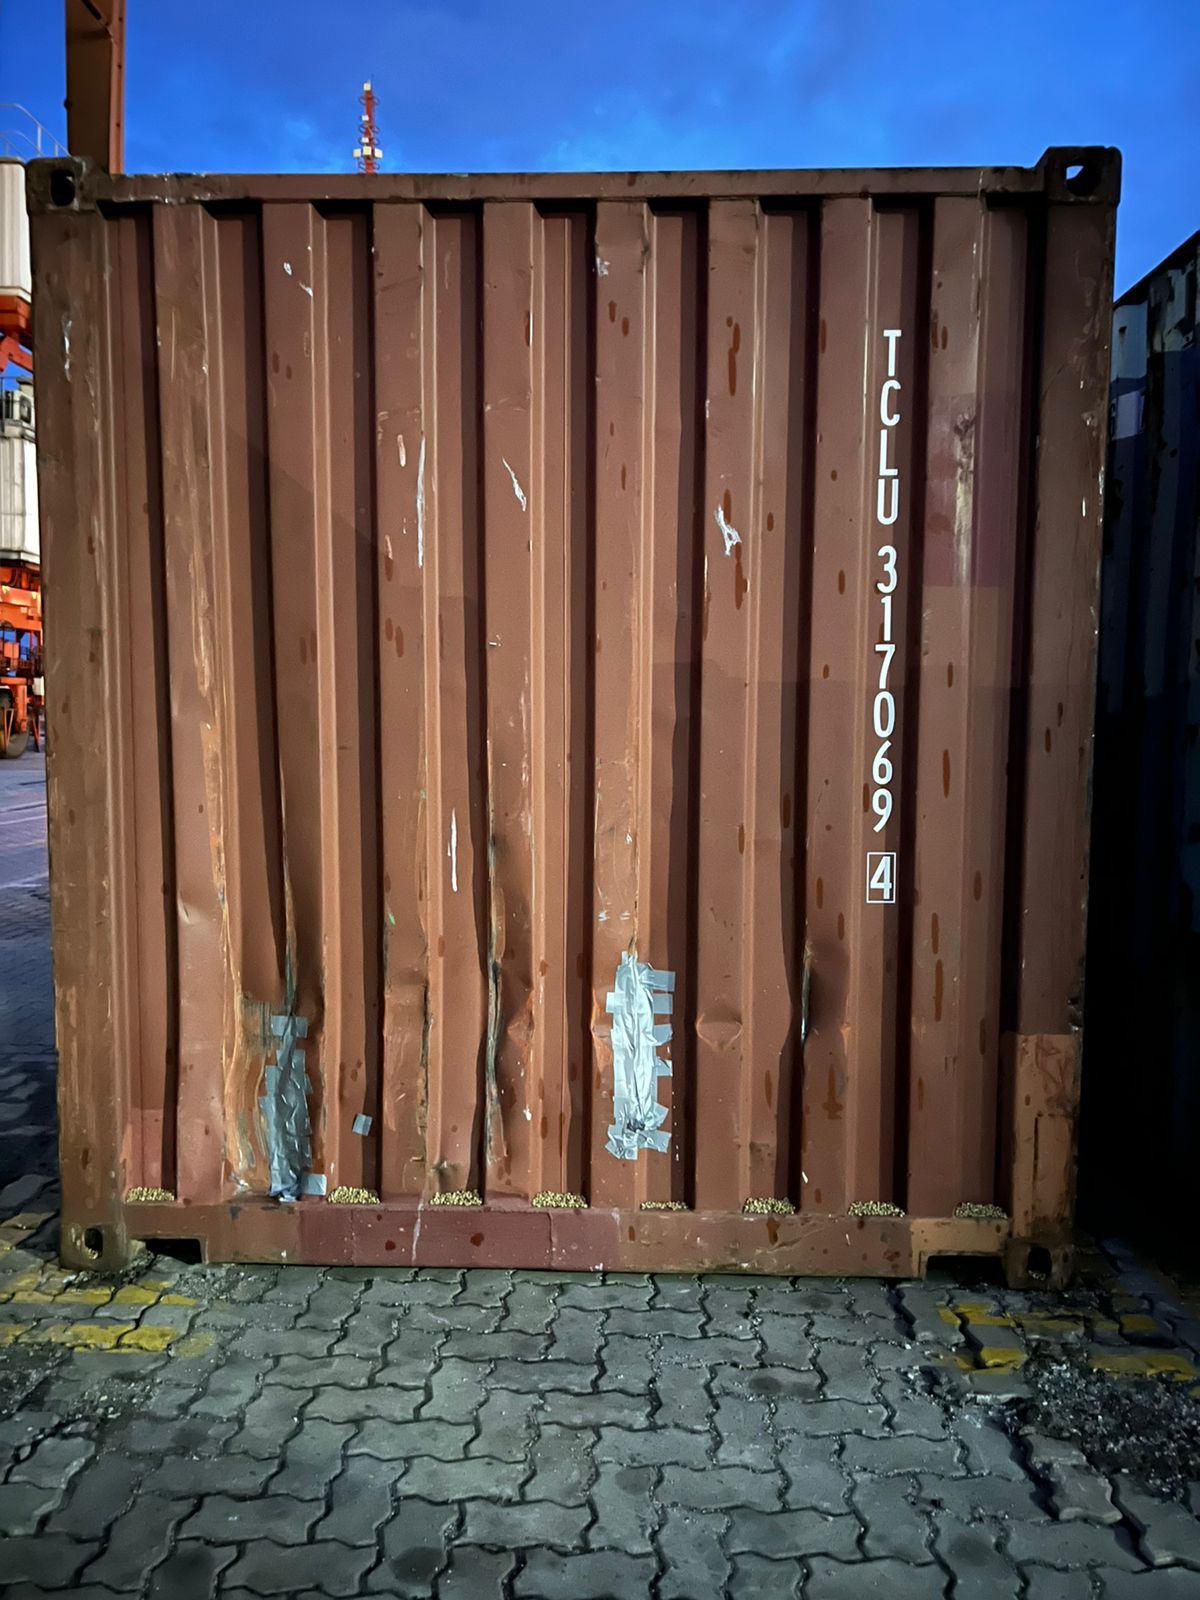bulged: (698, 910, 897, 1211)
dented: (155, 753, 383, 1230)
